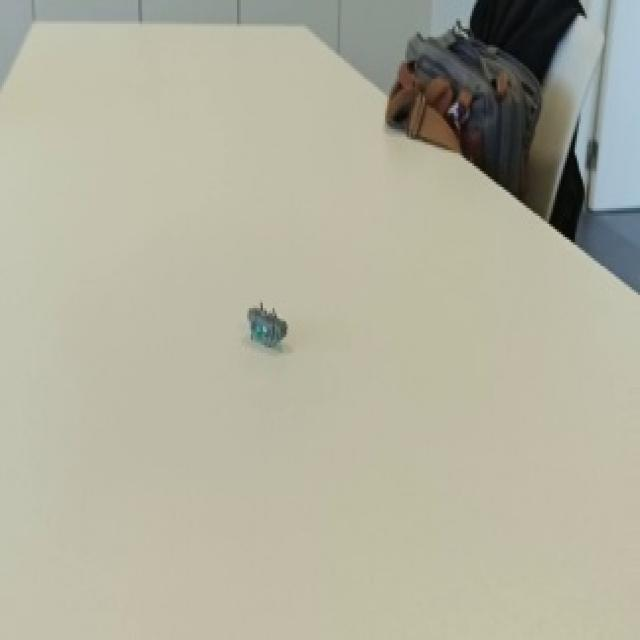5_NanoBug_GrisClaro: (227, 285, 326, 386)
